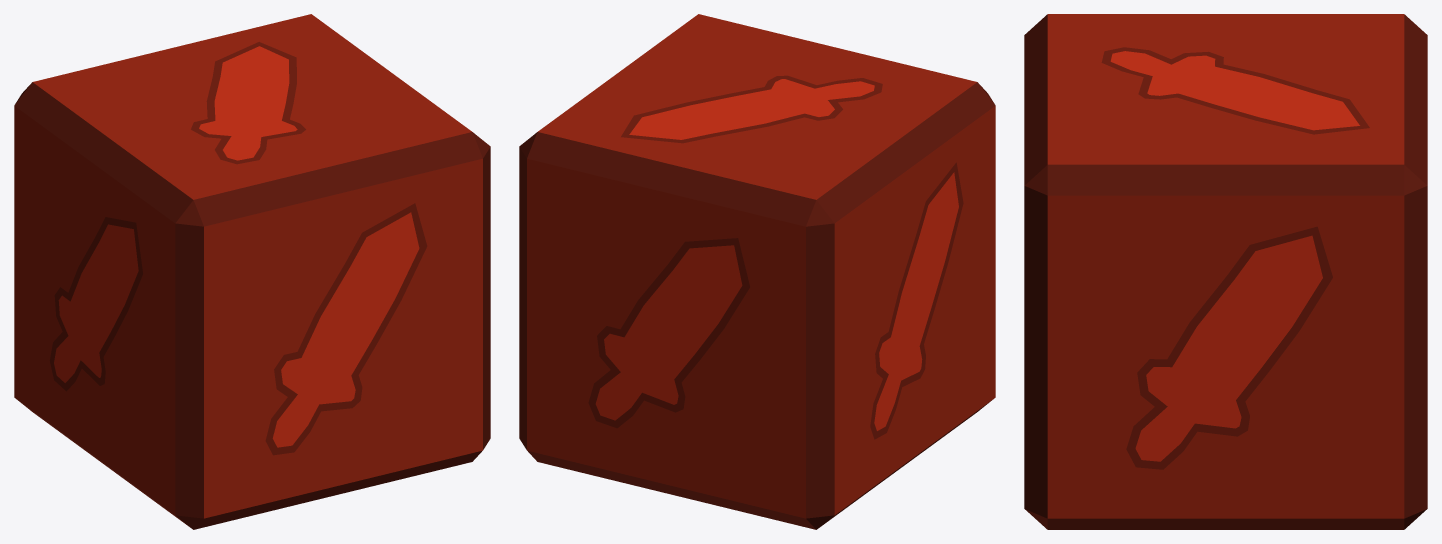
The model's file is offensive_trinket.glb.
3 renders of one model, left to right at view 1: azimuth 30°, elevation 25°; view 2: azimuth 150°, elevation 25°; view 3: azimuth 270°, elevation 25°, orthographic. The views are drawn at different scales.
Visible parts, largest first — view 1: OffensiveTrinket; view 2: OffensiveTrinket; view 3: OffensiveTrinket.
Part boxes in pixels (bbox=[...]): OffensiveTrinket: bbox=[14, 14, 490, 529]; OffensiveTrinket: bbox=[519, 14, 995, 529]; OffensiveTrinket: bbox=[1024, 14, 1427, 529].
Bounding box in the file's own units: 1 × 1 × 1.
Materials: 1 (1 with a texture image).
